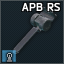APB rear sight: (0, 0, 64, 64)
